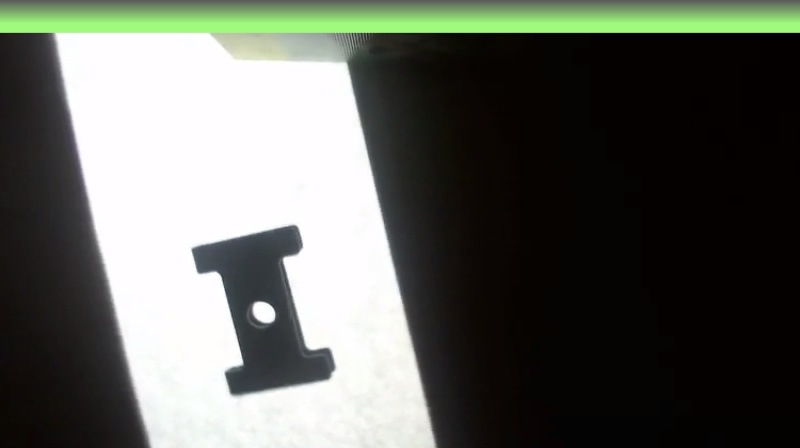O002: (186, 220, 336, 397)
